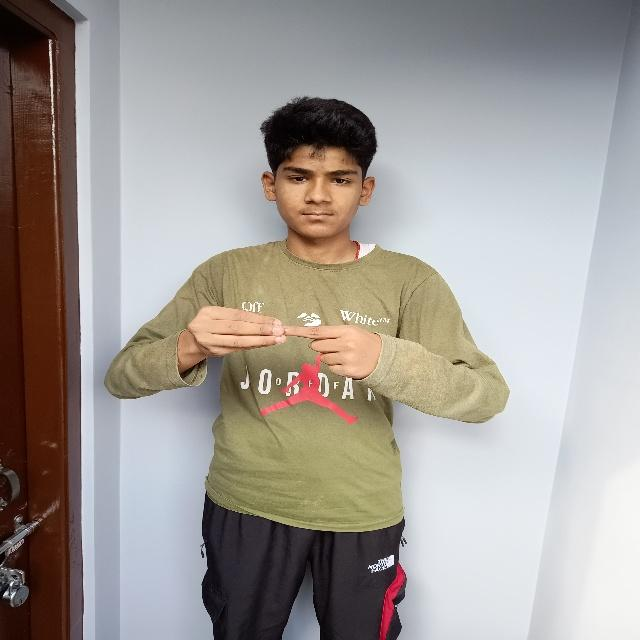Five Fathers: (182, 298, 387, 392)
